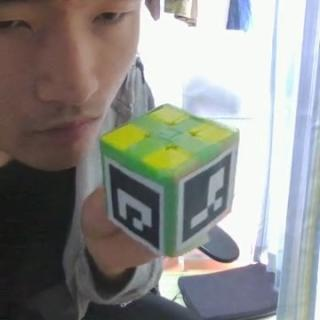armor: (103, 155, 165, 258), (176, 146, 236, 248)
robot: (99, 102, 240, 258)
